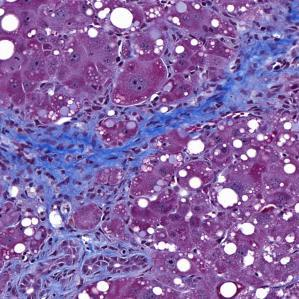fibrosis: (4, 214, 151, 291), (2, 104, 126, 177), (221, 18, 299, 113), (142, 102, 206, 148)
